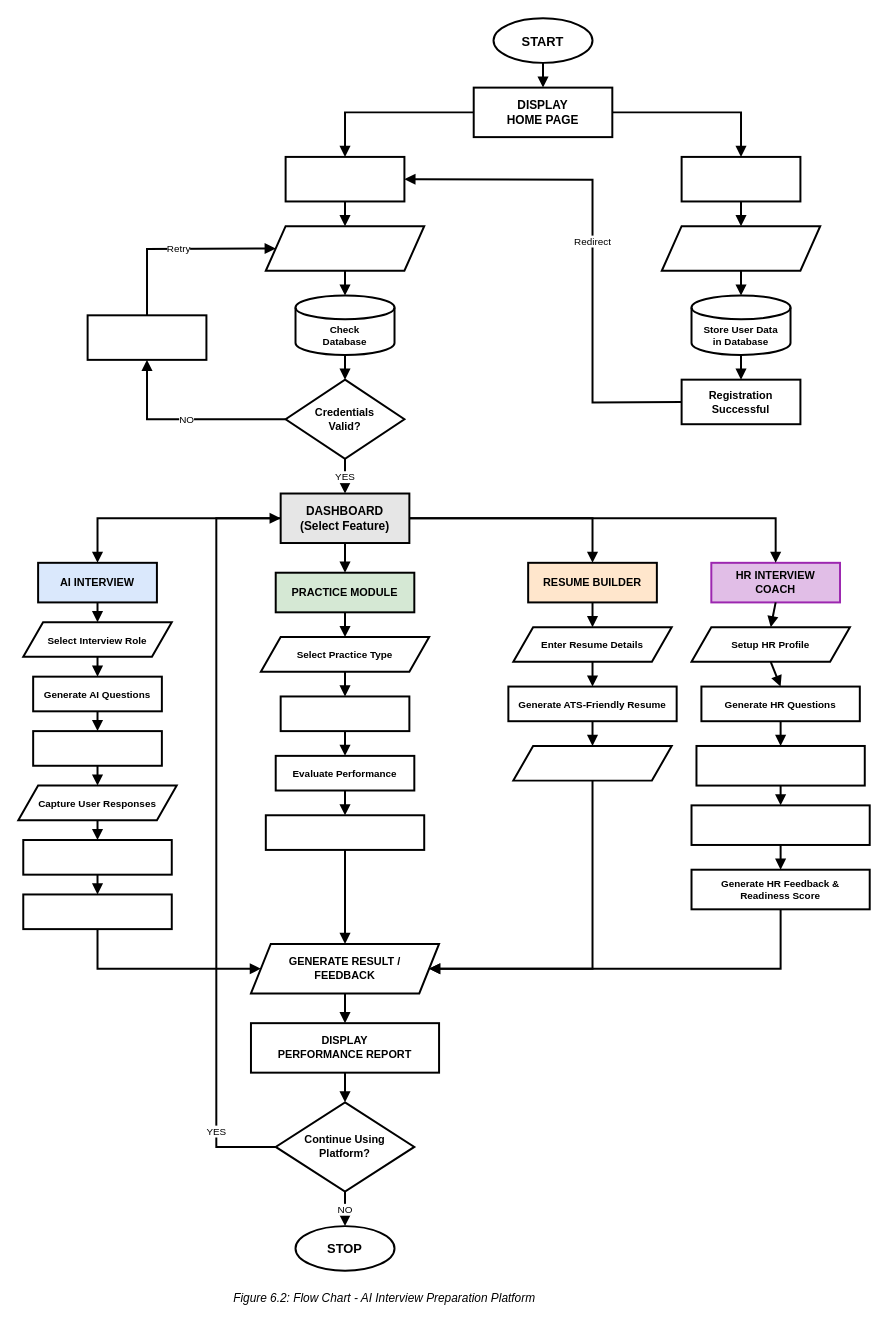
This 887x1327 diagram has some shape labels left out. The box of each missing label's shape, as (x1, y1, x2, y2) in pixels:
Analyze Responses Using AI: (22, 839, 172, 875)
Attempt Practice: (279, 695, 410, 732)
Conduct Interview: (32, 730, 162, 766)
Enter Credentials: (264, 225, 425, 271)
Enter Registration Details: (660, 225, 821, 271)
Evaluate HR Answers & Detect Red Flags: (690, 804, 870, 845)
Export Resume as PDF: (512, 744, 672, 781)
Generate Feedback & Score: (22, 893, 172, 930)
Generate Practice Feedback: (264, 814, 425, 850)
LOGIN: (284, 155, 405, 202)
Practice HR Responses (Voice / Text Input): (695, 744, 865, 786)
Show Error Message: (86, 314, 207, 360)
SIGN UP: (680, 155, 801, 202)
